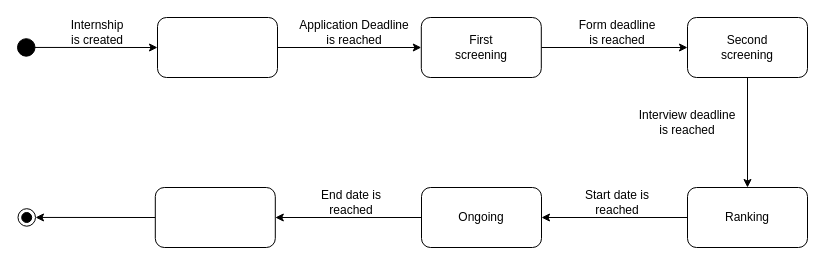
This 825x266 diagram has some shape labels left out. Here are the shapes that lost their labels. From the top down, the box of each, then its label:
(156, 16, 278, 78): Open for applications
(154, 186, 275, 248): Finished
